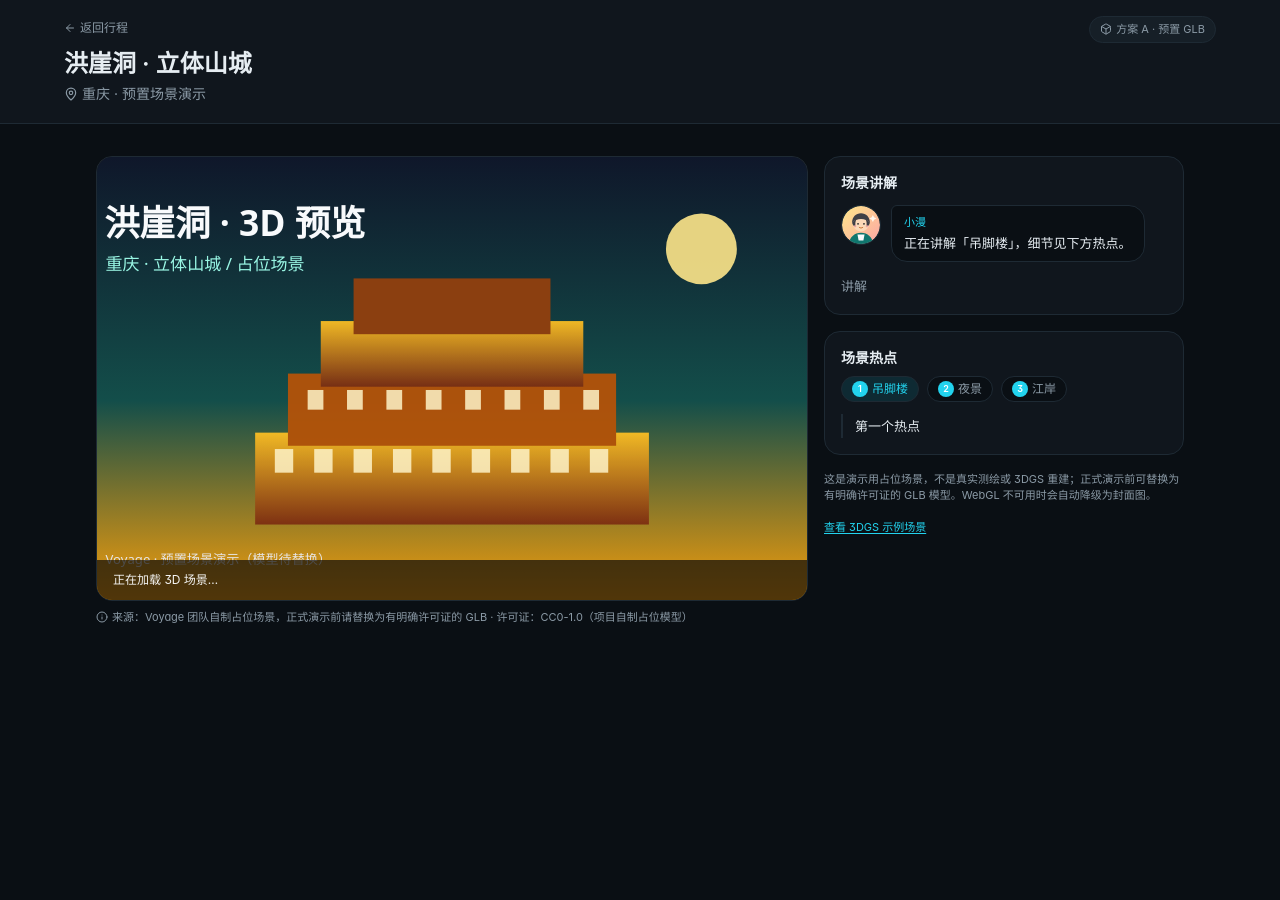
Scenario: SceneExperience › switches the detail panel when another hotspot is clicked
This screenshot has width=1280, height=900.
Click the button "2 夜景".
click(960, 388)  # box [927,376,993,402]
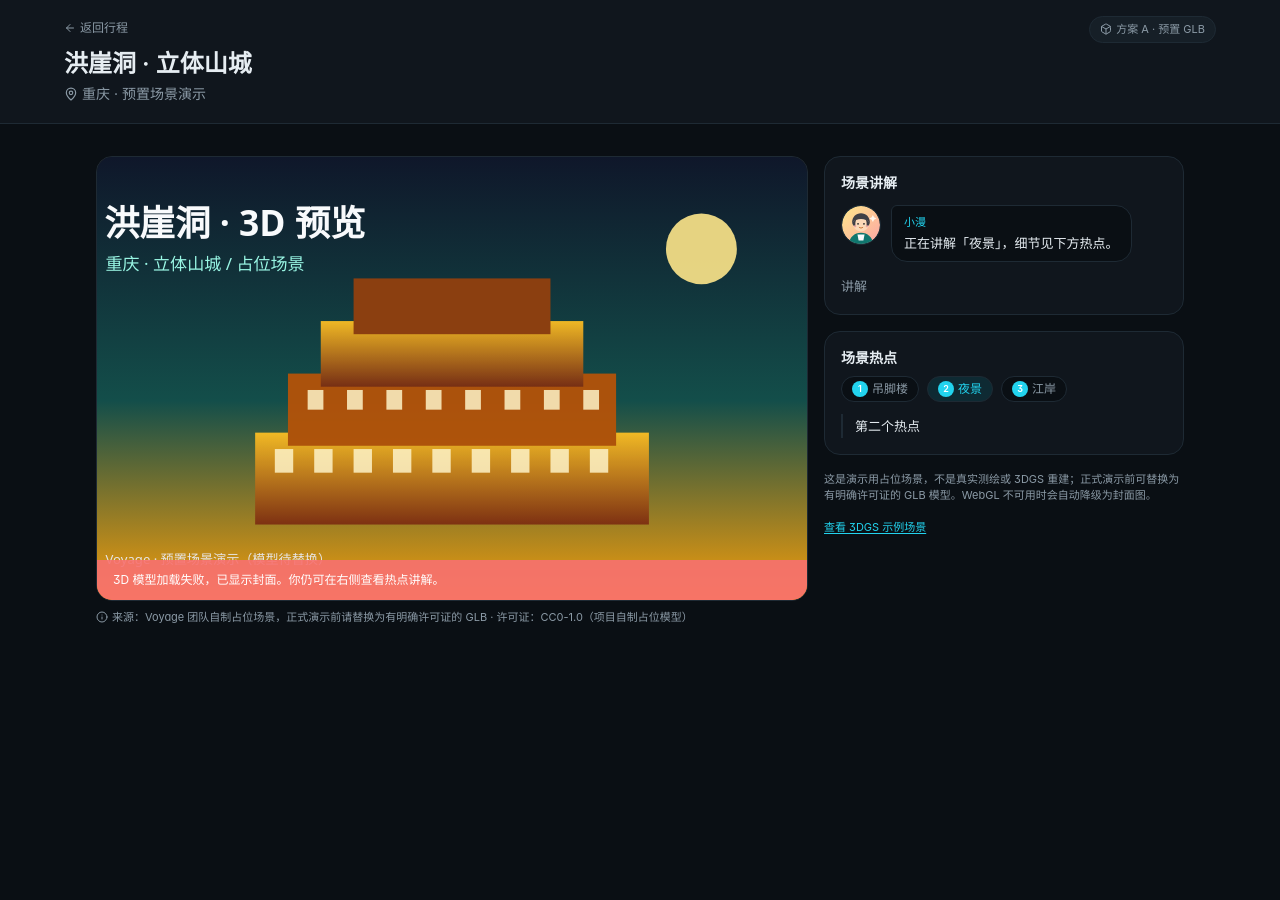
Check: the text with test id "hotspot-detail" reads "第二个热点", box [855,418,920,434]
